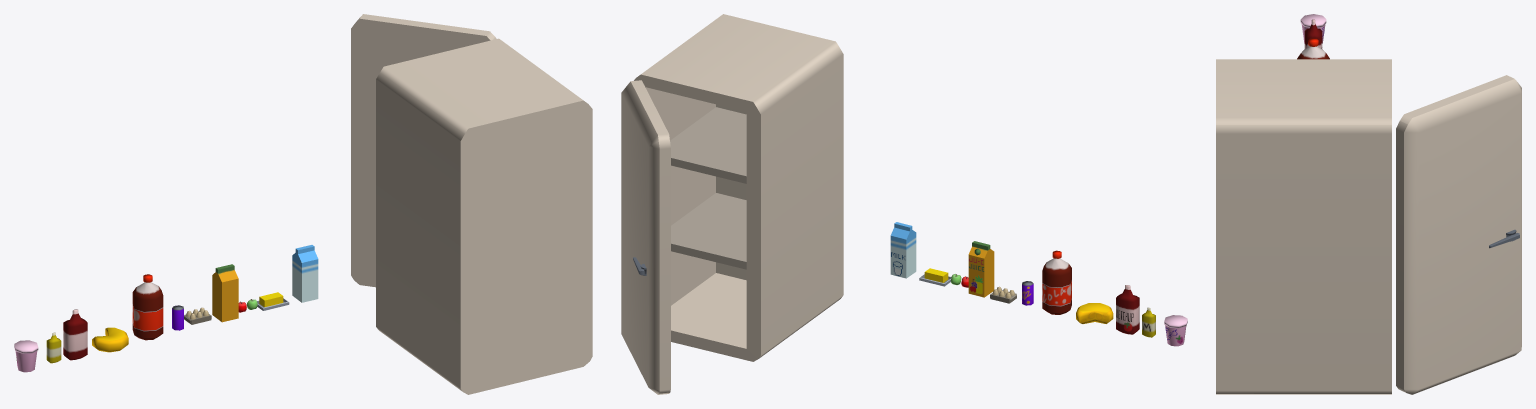
Rendered from FridgeWares.fbx.
The picture shows the model from 3 angles, left to right: view 1: azimuth 30°, elevation 25°; view 2: azimuth 150°, elevation 25°; view 3: azimuth 270°, elevation 25°; orthographic projection. The views are drawn at different scales.
Parts seen in each view (by area): view 1: Fridge1, FridgeDoor, SodaBottle, MilkCarton, JuiceCarton, SauceKetchup, Cheese, YogurtTub; view 2: Fridge1, FridgeDoor, Tray1, Tray2, SodaBottle, JuiceCarton, MilkCarton, SauceKetchup, Cheese, YogurtTub; view 3: Fridge1, FridgeDoor, SodaBottle, YogurtTub, SauceKetchup.
Part boxes in pixels (<box>): Fridge1: <box>376,38,592,394</box>; FridgeDoor: <box>351,14,496,287</box>; SodaBottle: <box>132,274,163,340</box>; MilkCarton: <box>292,245,318,302</box>; JuiceCarton: <box>212,264,238,322</box>; SauceKetchup: <box>63,309,87,360</box>; Cheese: <box>92,327,128,352</box>; YogurtTub: <box>14,340,38,372</box>; Fridge1: <box>634,14,843,361</box>; FridgeDoor: <box>621,80,670,394</box>; Tray1: <box>670,107,746,183</box>; Tray2: <box>671,193,746,269</box>; SodaBottle: <box>1042,250,1071,314</box>; JuiceCarton: <box>968,241,994,297</box>; MilkCarton: <box>890,222,916,278</box>; SauceKetchup: <box>1116,285,1139,334</box>; Cheese: <box>1076,303,1113,323</box>; YogurtTub: <box>1164,315,1187,346</box>; Fridge1: <box>1216,59,1391,394</box>; FridgeDoor: <box>1396,75,1521,394</box>; SodaBottle: <box>1297,38,1329,59</box>; YogurtTub: <box>1300,14,1326,43</box>; SauceKetchup: <box>1304,19,1322,48</box>.
Size of the model in its own units: 3.5 by 1.68 by 1.68.
